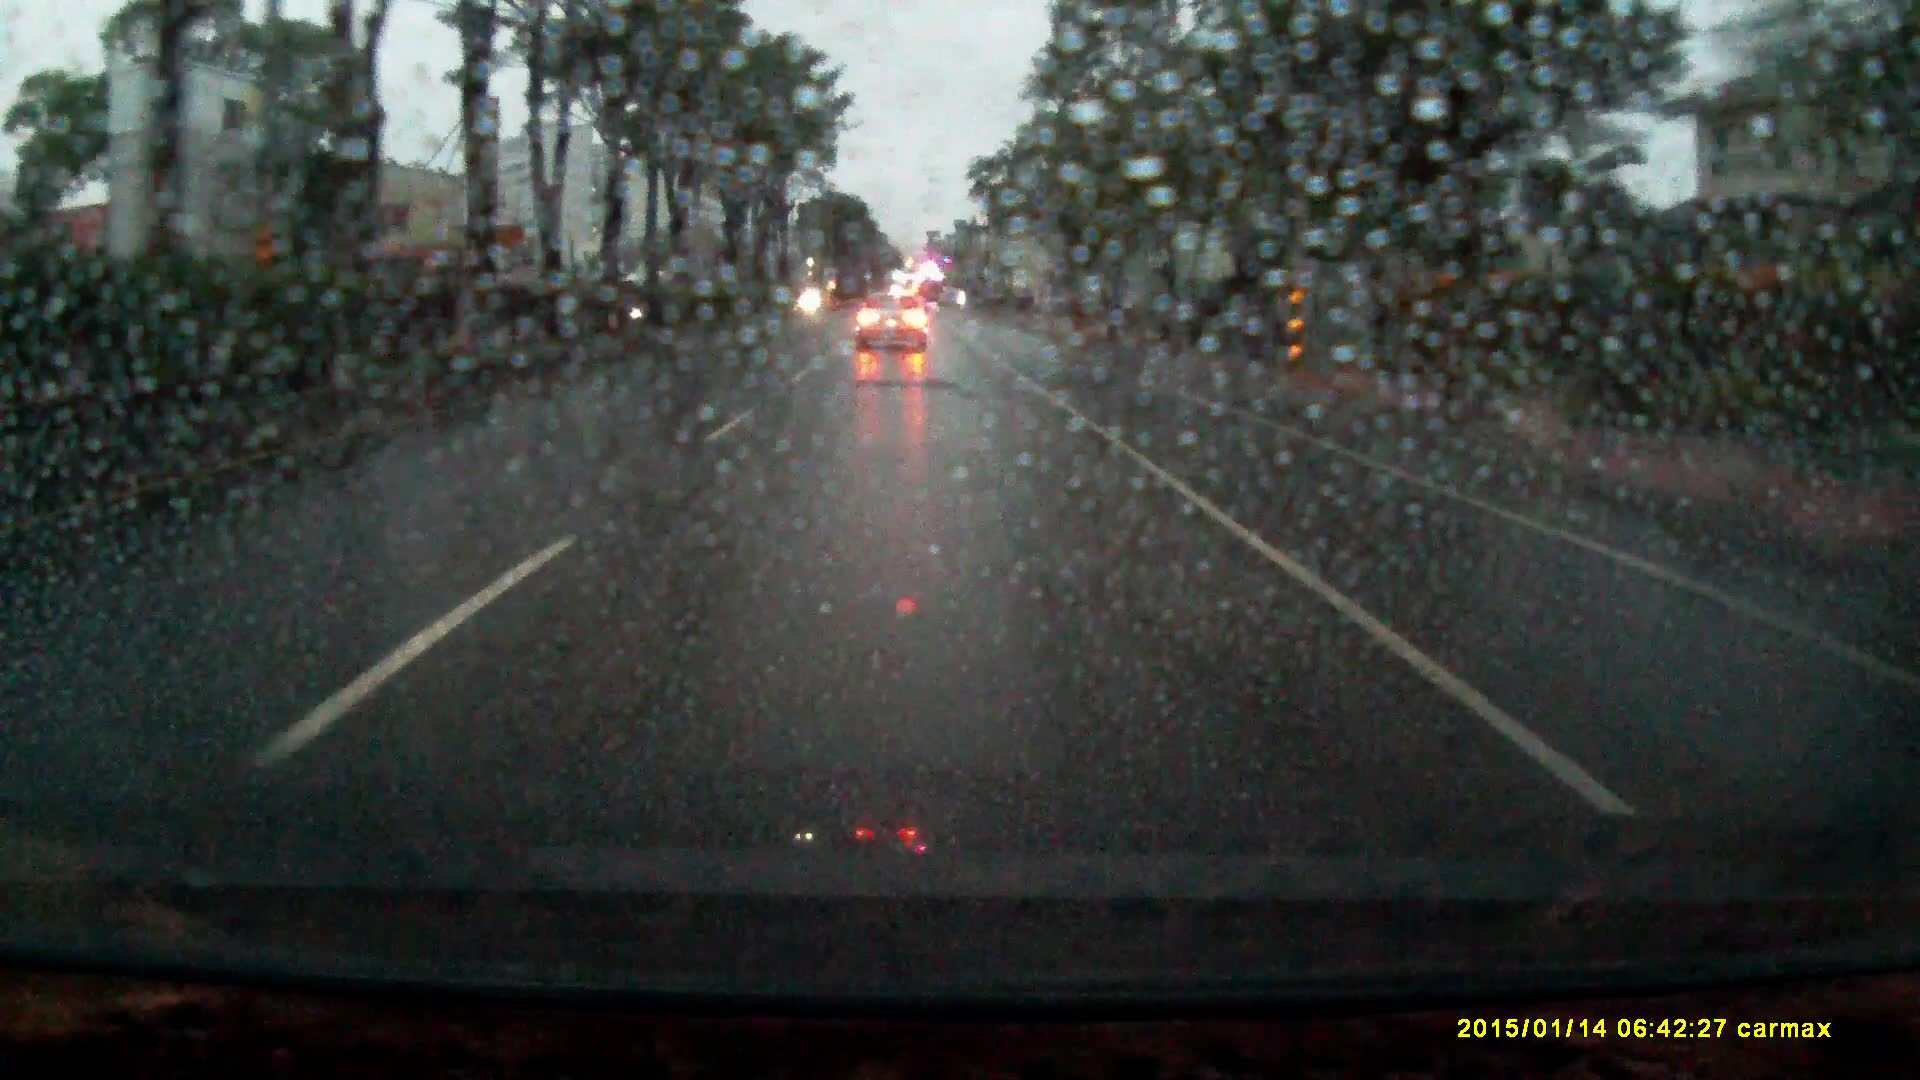vehicle: (855, 294, 928, 353)
